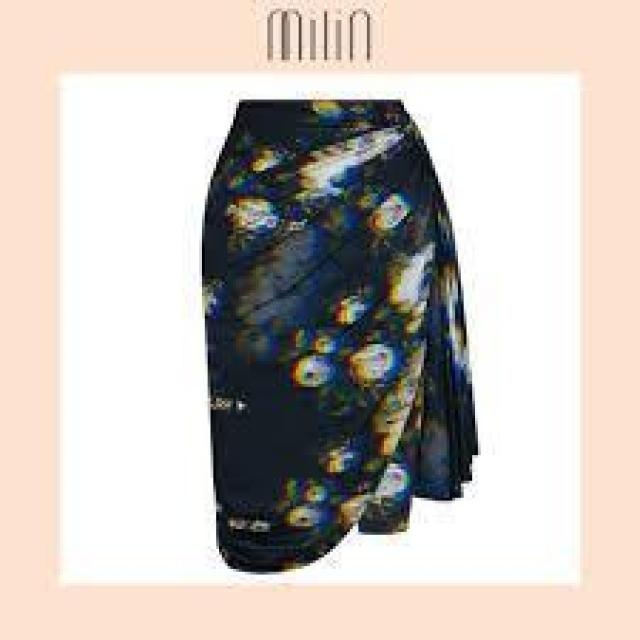skirt: (192, 85, 505, 578)
